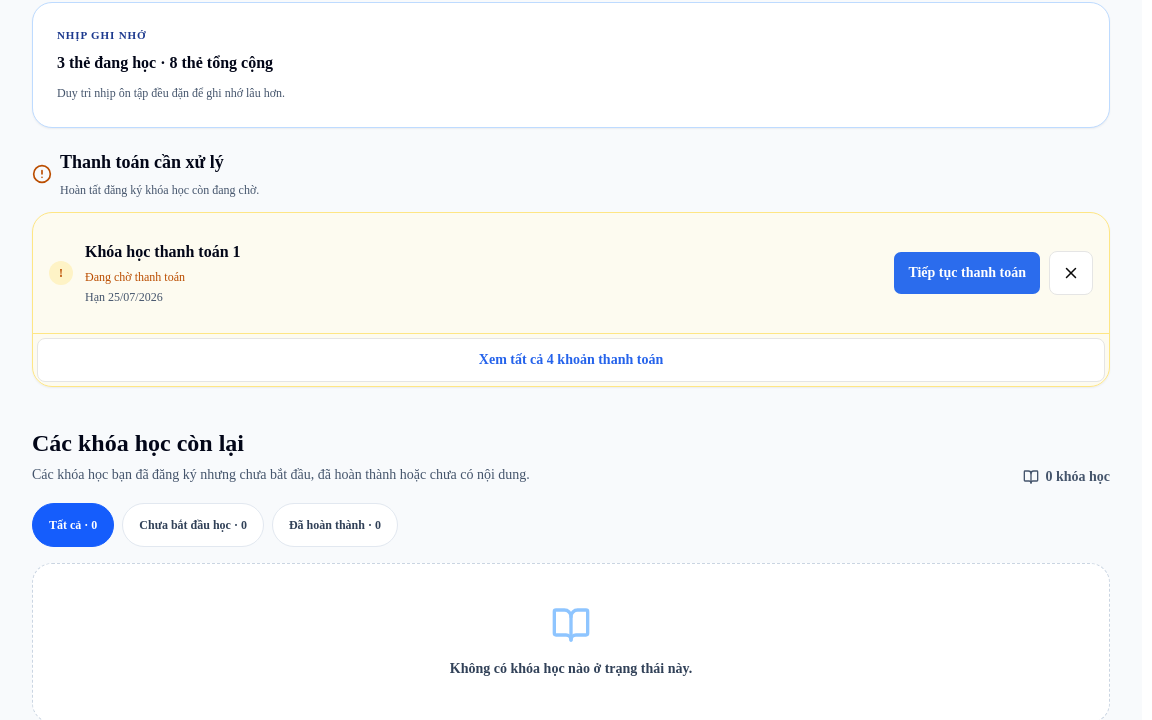
Test: LearnDashboardClient payment interactions › dismisses the selected payment and updates the visible count and preview
(page scrolled)
Click the button "Xem tất cả 4 khoản thanh toán": click(571, 360) [37, 338, 1105, 382]
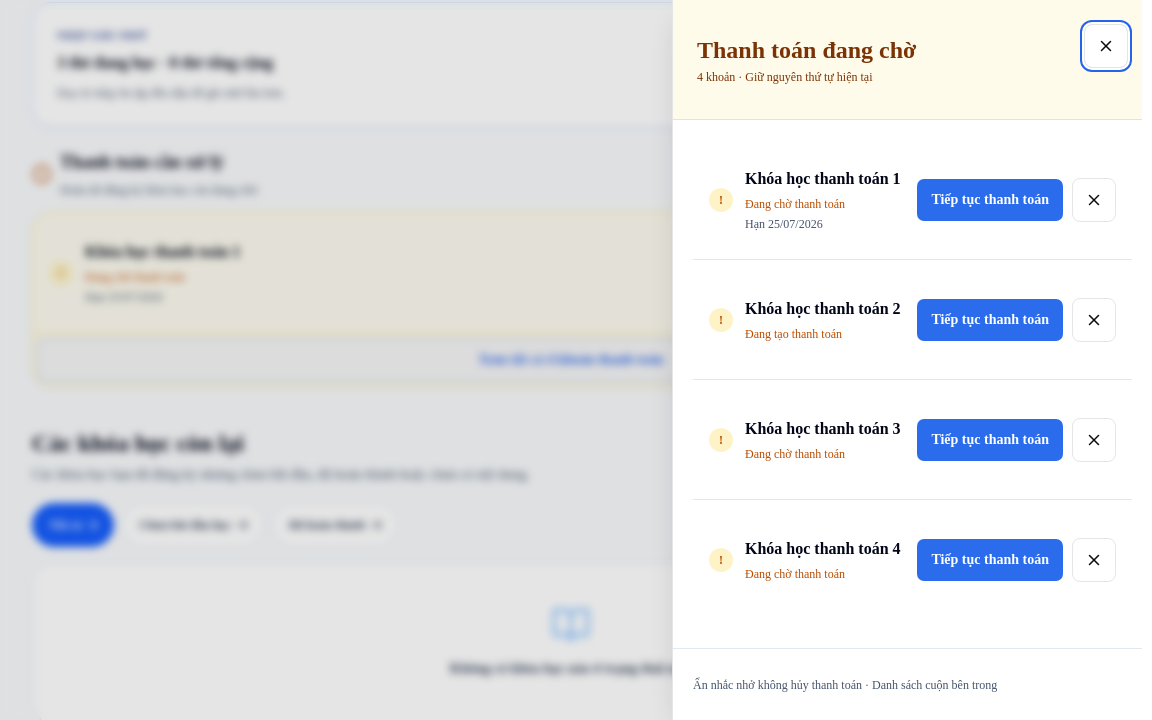
Click the button named "Ẩn nhắc nhở này: Khóa học thanh toán 2": click(1094, 320) [1072, 298, 1116, 342]
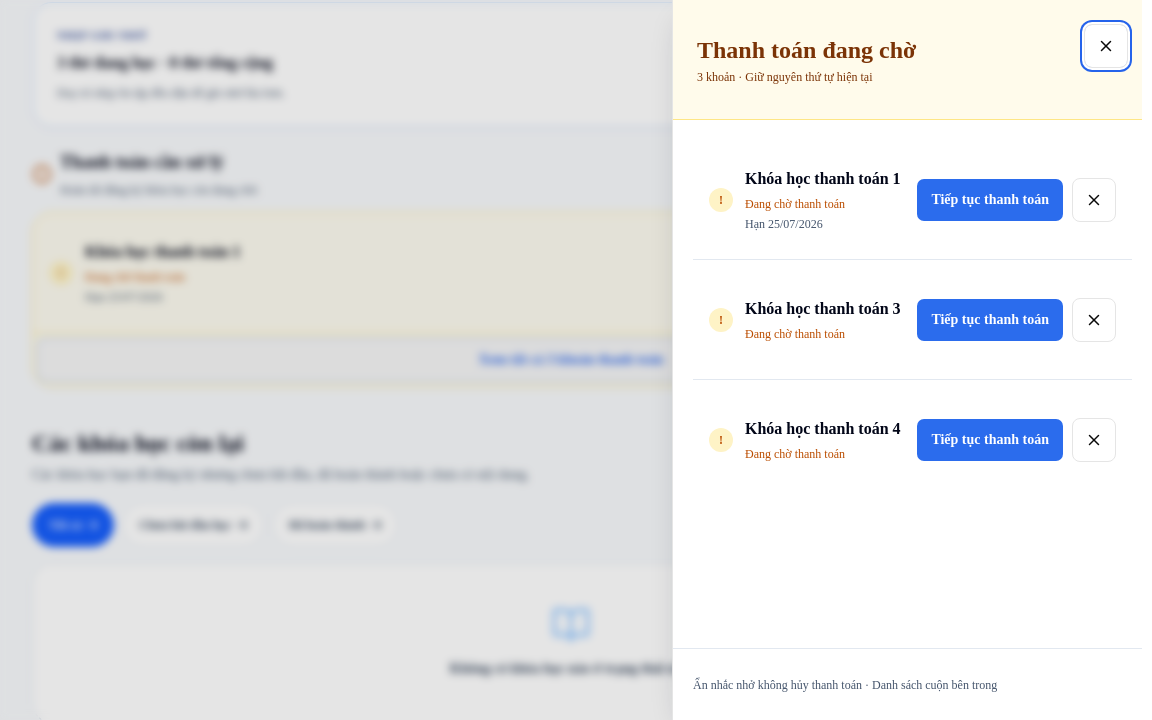
Result: the heading "Khóa học thanh toán 2" is gone
Result: the text "3 khoản · Giữ nguyên thứ tự hiện tại" is shown at [697, 70, 872, 84]
Click the button named "Đóng danh sách thanh toán": click(1106, 46) [1084, 24, 1128, 68]
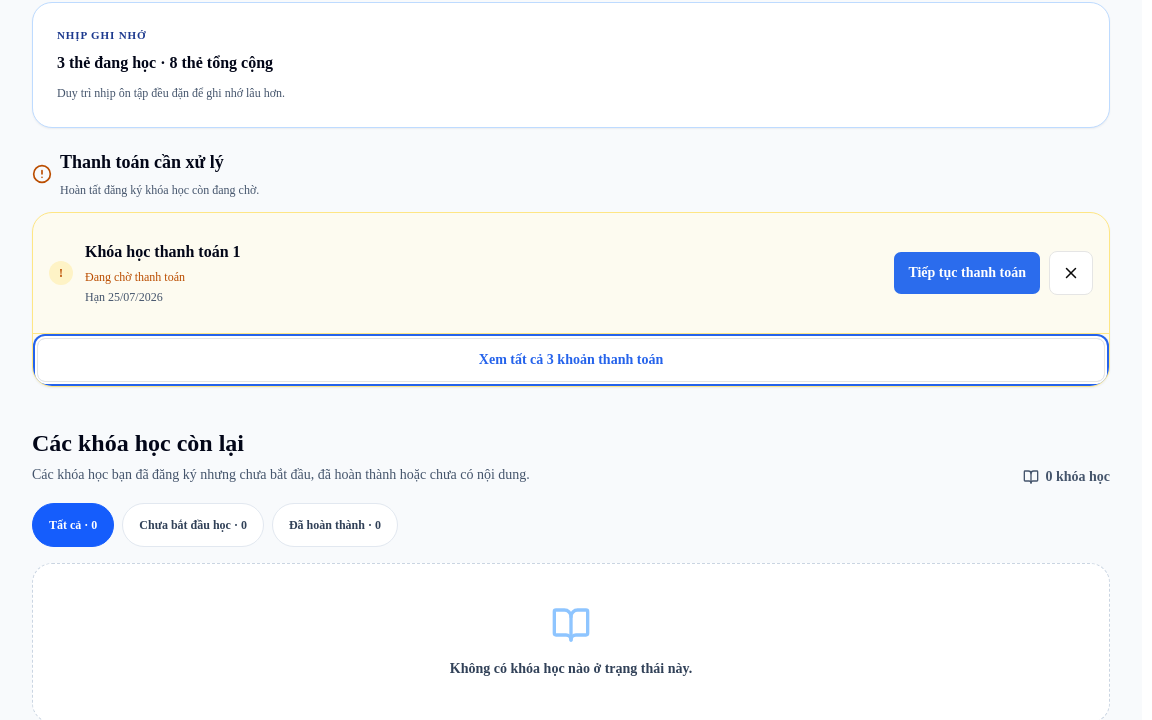
Expected: the heading "Khóa học thanh toán 2" is not shown
Result: the heading "Thanh toán đang chờ" is gone
Click the button "Xem tất cả 3 khoản thanh toán": click(571, 360) [37, 338, 1105, 382]
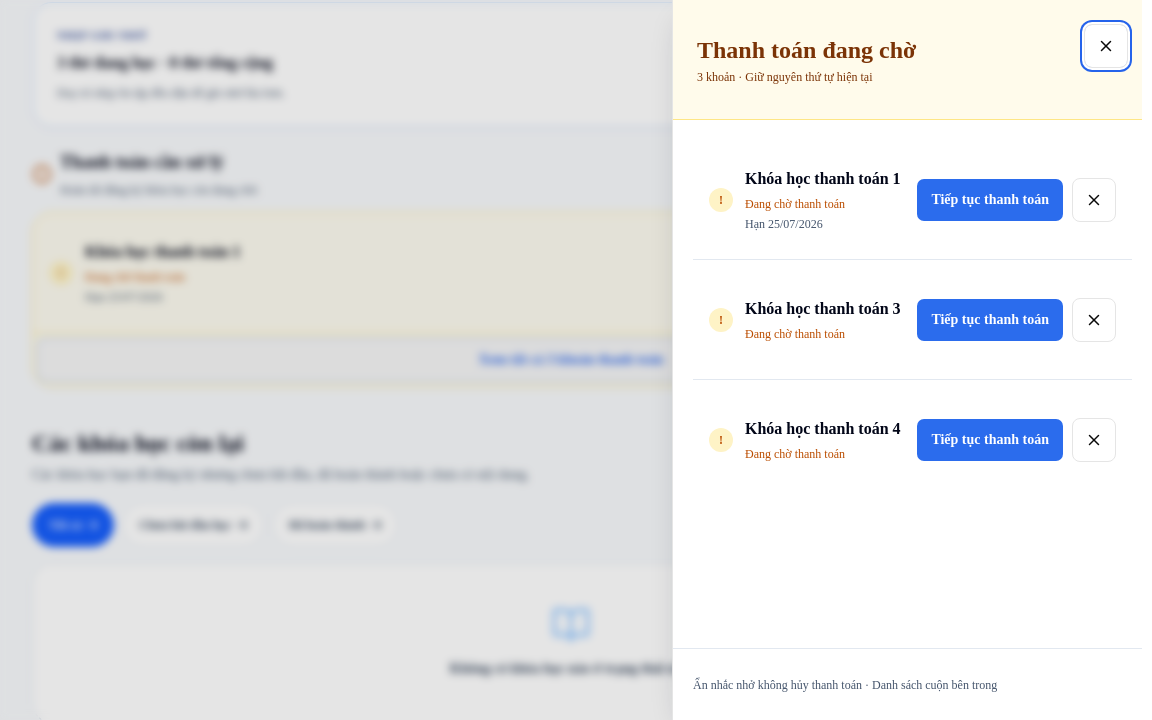
Expected: the heading "Khóa học thanh toán 2" is not shown
Result: the heading "Khóa học thanh toán 3" is shown at [745, 296, 904, 320]
Result: the heading "Khóa học thanh toán 4" is shown at [745, 417, 904, 441]
